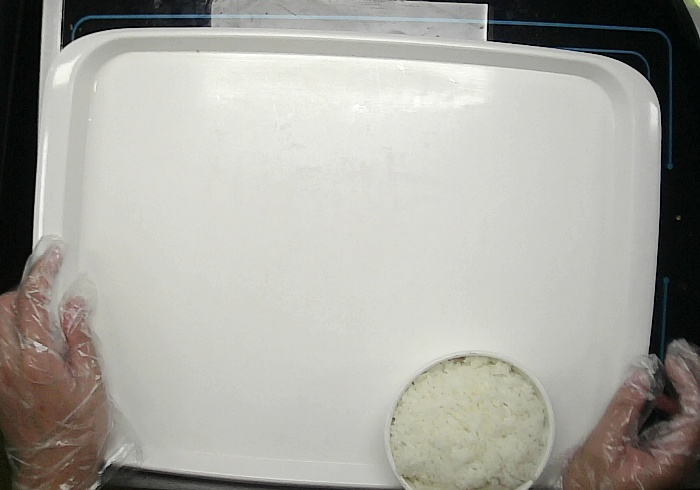HZYJPL-Fan_Wan: (380, 345, 556, 490)
